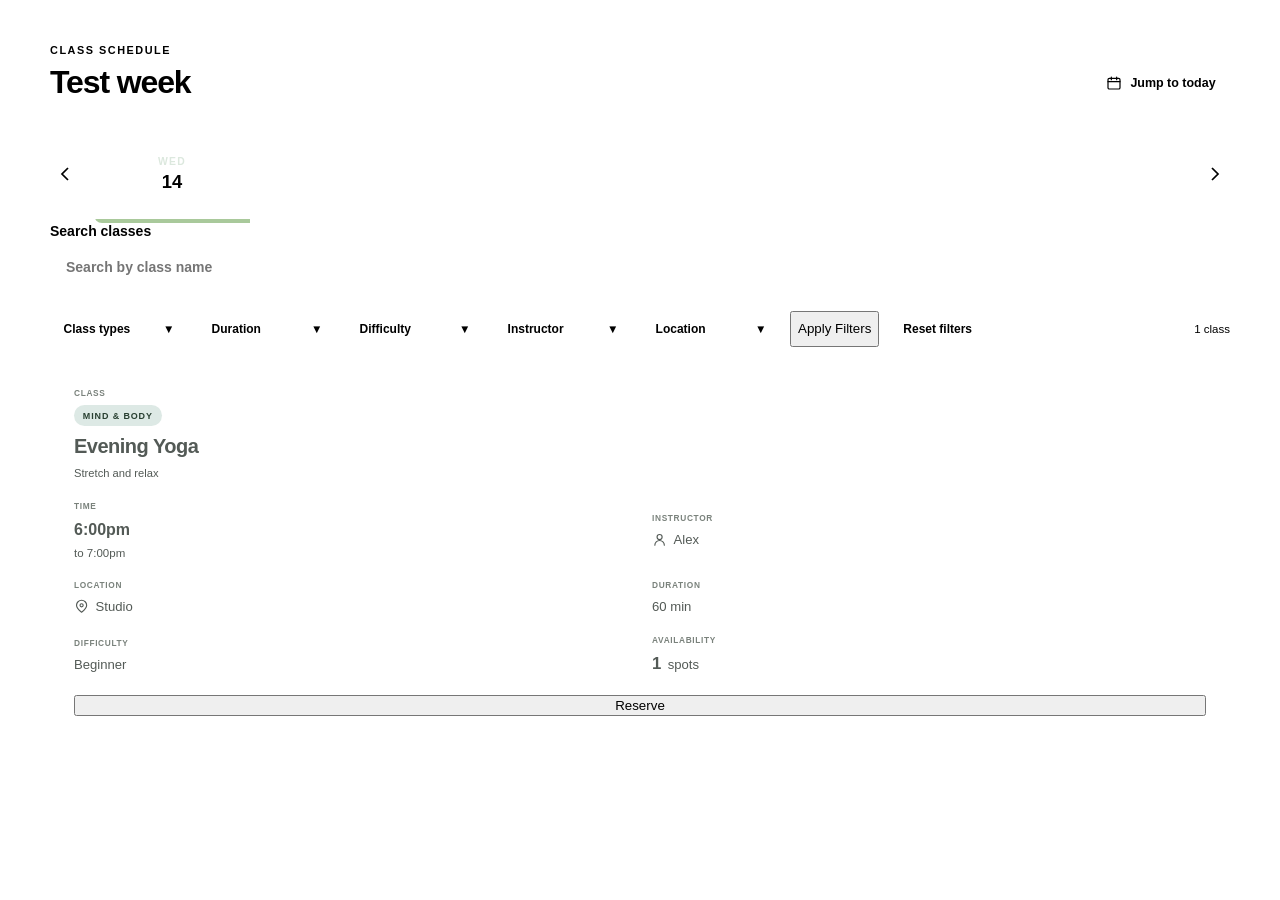
refreshes availability and explains a rejected booking (409, This class has already started.)
The width and height of the screenshot is (1280, 900).
Click the button "Reserve": click(640, 705) [74, 695, 1206, 716]
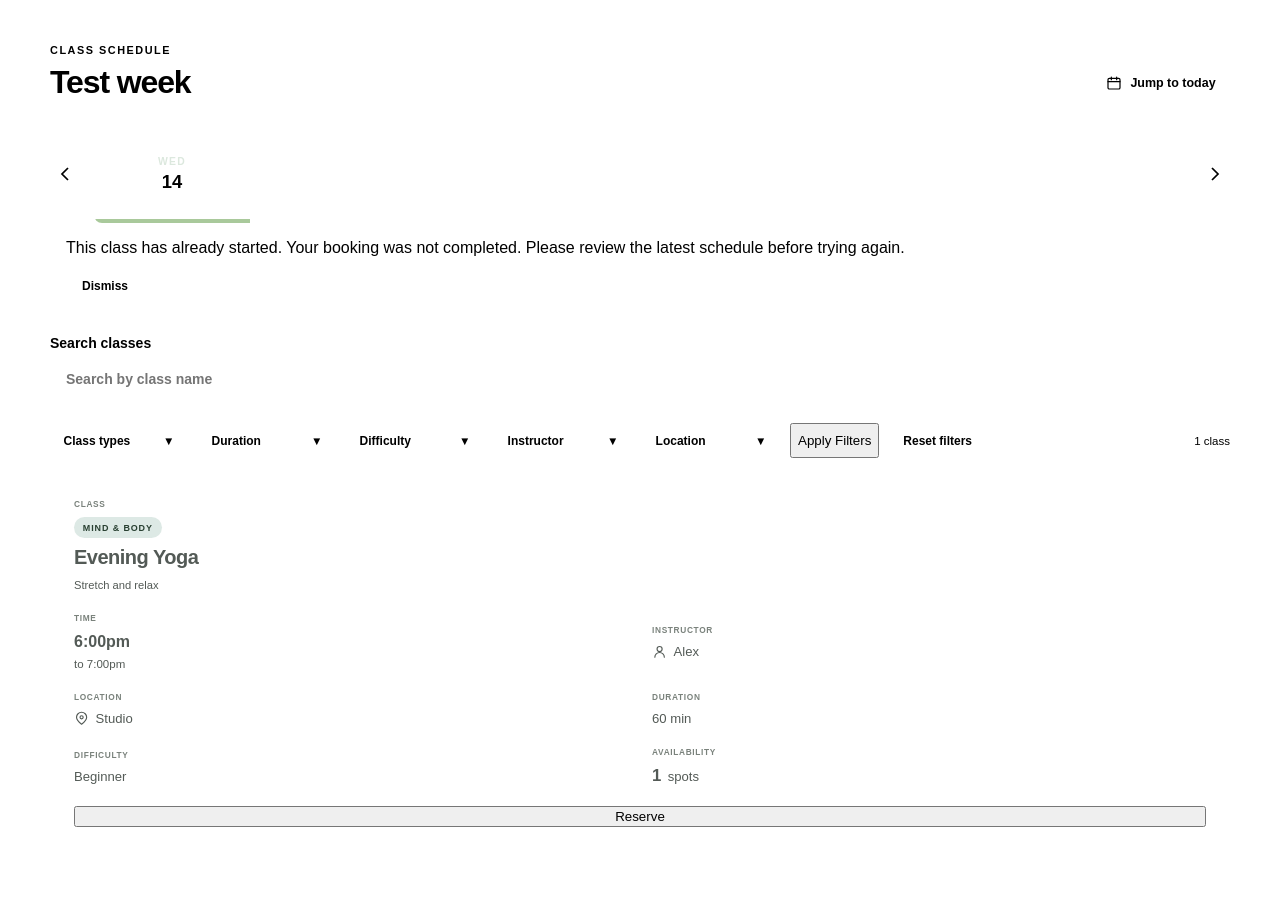
Check: the 1st message shows "This class has already started.", box [66, 239, 905, 256]
Check: the 1st message shows "Your booking was not completed.", box [66, 239, 905, 256]
